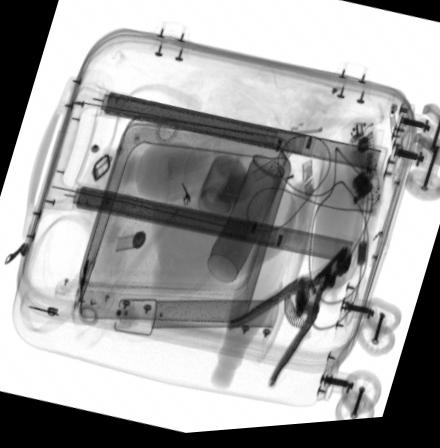Pliers: (228, 249, 352, 392)
